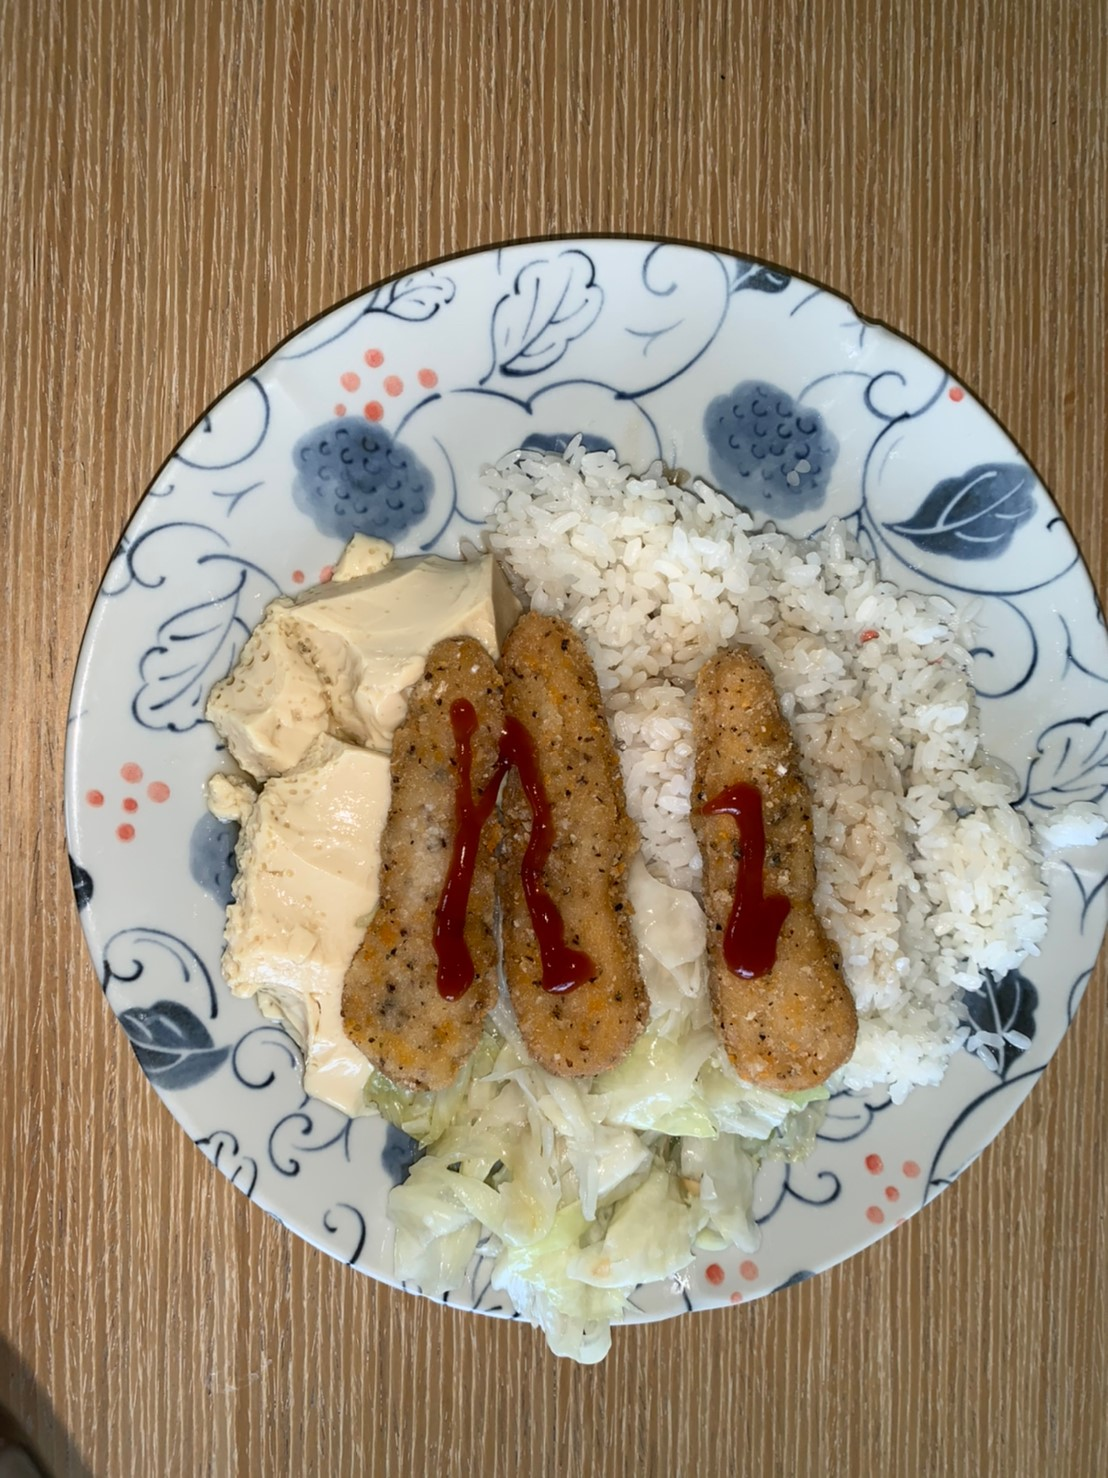chinese_cabbage: (383, 1049, 758, 1312)
rice: (496, 446, 990, 1040)
